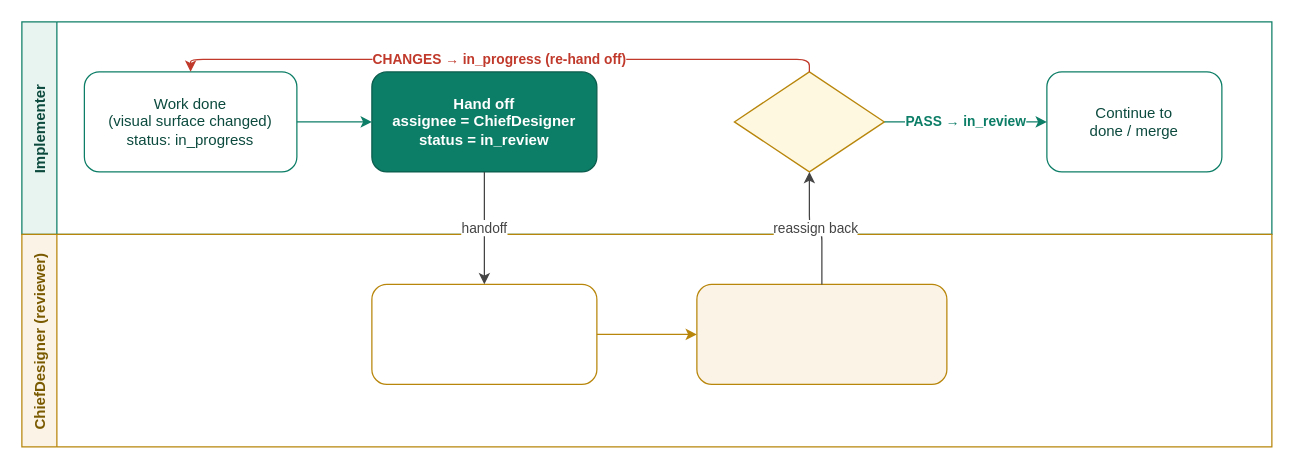
Image size: 1294x469. Some labels were removed from this diagram. Here are the shapes that lost their labels. From the top down, the box of each, then its label:
(733, 71, 884, 172): Verdict?
(371, 283, 597, 384): Review surface (now assignee → can write) render visual truth
(696, 283, 947, 384): Post verdict + attach evidence reassign back to implementer
